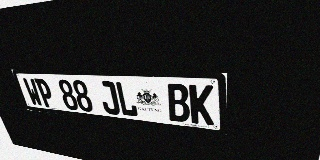8: (71, 80, 94, 112), (57, 79, 79, 111)
B: (166, 83, 190, 123)
J: (97, 81, 121, 115)
K: (189, 84, 214, 125)
L: (114, 81, 138, 117)
P: (34, 78, 56, 108)
W: (22, 78, 44, 107)
